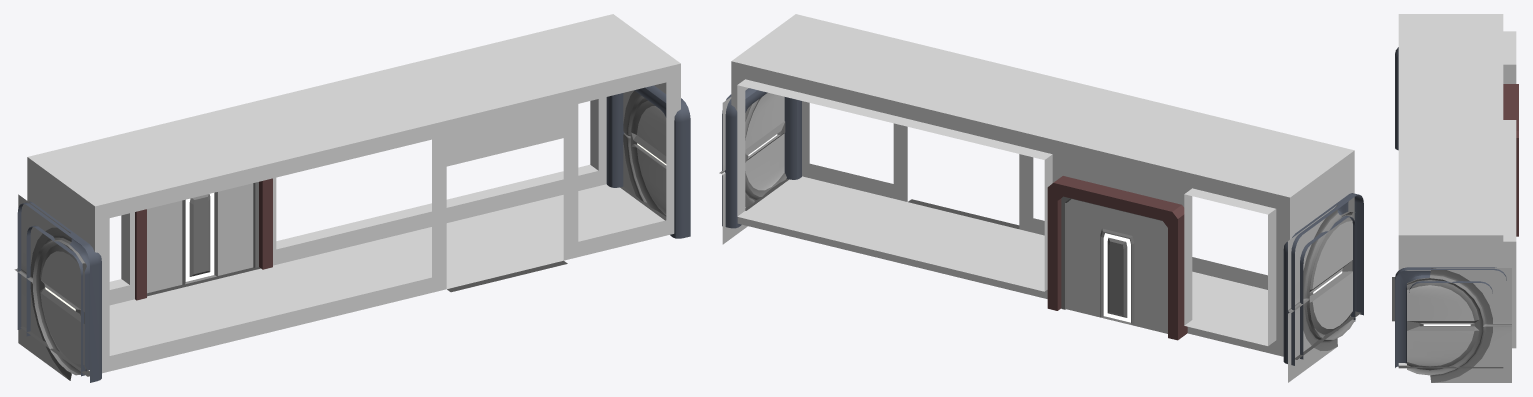
Rendered from Hall_01_Group.fbx.
The picture shows the model from 3 angles, left to right: view 1: azimuth 30°, elevation 25°; view 2: azimuth 150°, elevation 25°; view 3: azimuth 270°, elevation 25°; orthographic projection. The views are drawn at different scales.
Parts seen in each view (by area): view 1: Hall_01, Hall_Door, Door_Frame (×2), Door_01 (×2), Hall_Door_Frame, Door_03 (×2), Door_02; view 2: Hall_01, Hall_Door, Door_01 (×2), Door_Frame (×2), Hall_Door_Frame, Door_03 (×2), Door_02; view 3: Hall_01, Door_01, Door_02, Door_03, Door_Frame (×2), Hall_Door_Frame.
Boxes of the visible parts, x1=… form: Hall_01: x1=20, y1=14, x2=680, y2=376; Hall_Door: x1=147, y1=182, x2=258, y2=293; Door_Frame (×2): x1=17, y1=85, x2=690, y2=382; Door_01 (×2): x1=33, y1=98, x2=666, y2=375; Hall_Door_Frame: x1=135, y1=178, x2=272, y2=300; Door_03 (×2): x1=14, y1=133, x2=646, y2=380; Door_02: x1=15, y1=194, x2=71, y2=282; Hall_01: x1=731, y1=14, x2=1360, y2=359; Hall_Door: x1=1061, y1=196, x2=1167, y2=333; Door_01 (×2): x1=745, y1=92, x2=1355, y2=339; Door_Frame (×2): x1=722, y1=88, x2=1363, y2=365; Hall_Door_Frame: x1=1047, y1=176, x2=1187, y2=340; Door_03 (×2): x1=720, y1=171, x2=1341, y2=382; Door_02: x1=1288, y1=205, x2=1341, y2=312; Hall_01: x1=1392, y1=14, x2=1516, y2=368; Door_01: x1=1407, y1=277, x2=1483, y2=375; Door_02: x1=1430, y1=268, x2=1511, y2=326; Door_03: x1=1430, y1=326, x2=1511, y2=382; Door_Frame (×2): x1=1395, y1=47, x2=1506, y2=367; Hall_Door_Frame: x1=1503, y1=84, x2=1518, y2=236.
Bounding box in the file's own units: 4101 × 1235 × 970.
